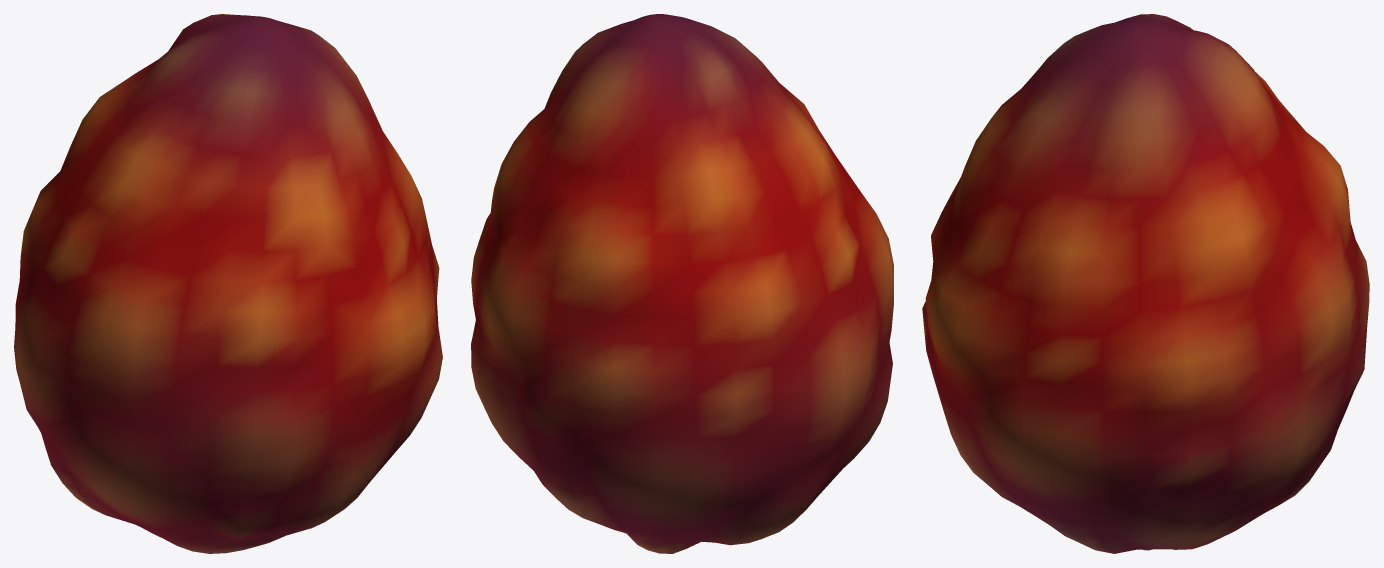
Rendered from egg.fbx.
The picture shows the model from 3 angles, left to right: view 1: azimuth 30°, elevation 25°; view 2: azimuth 150°, elevation 25°; view 3: azimuth 270°, elevation 25°; orthographic projection. The views are drawn at different scales.
Parts seen in each view (by area): view 1: egg; view 2: egg; view 3: egg.
Part boxes in pixels (<box>): egg: <box>14,14,442,553</box>; egg: <box>471,14,893,553</box>; egg: <box>922,14,1369,553</box>.
Size of the model in its own units: 253 by 325 by 250.
